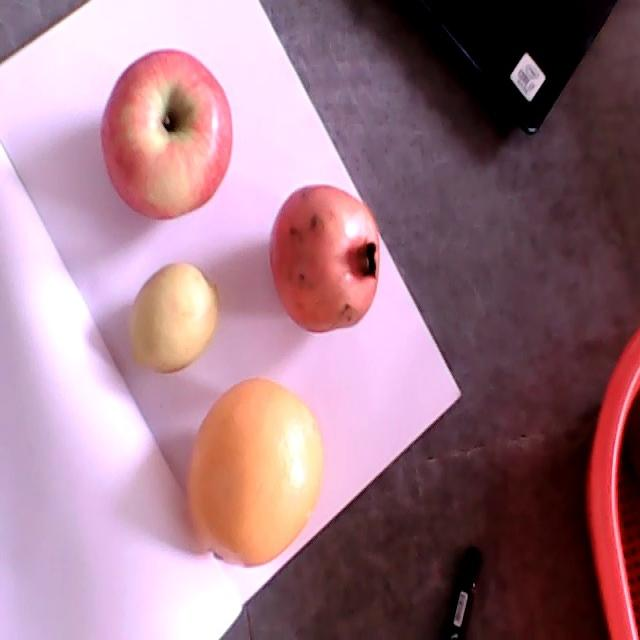apple: (101, 50, 233, 220)
lemon: (131, 264, 218, 372)
orange: (184, 375, 324, 566)
pomegranate: (270, 184, 381, 333)
